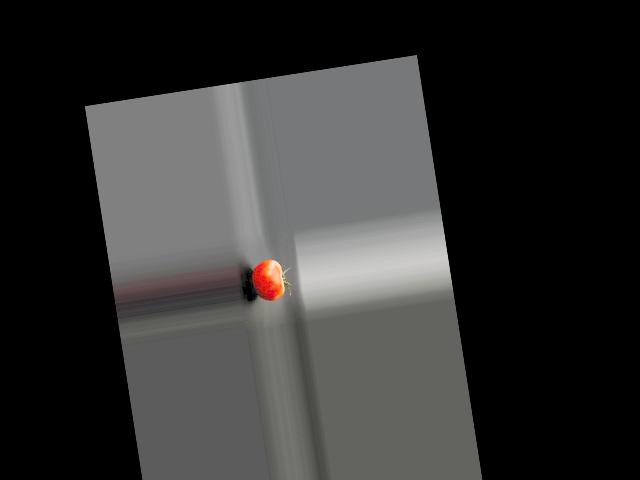tomato: (249, 257, 286, 302)
